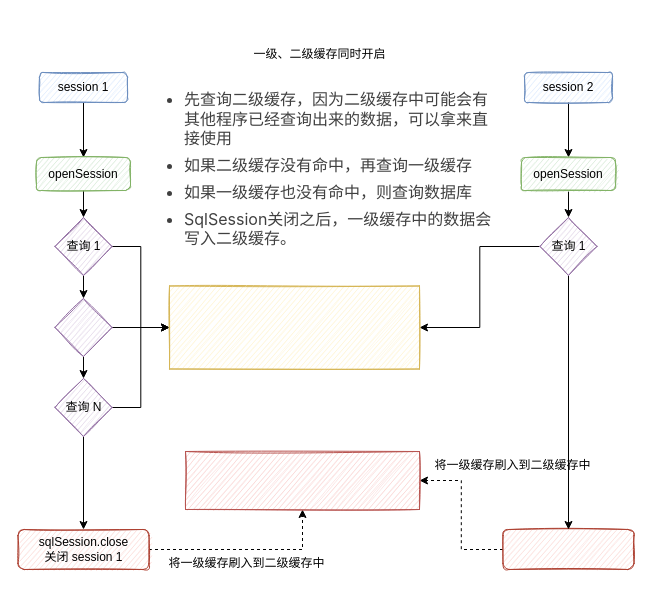
Image size: 651x594. Some labels were removed from this diagram. Each missing label, with the centre of its shape:
"MappedStatement 级别 【二级缓存】" belongs at [302,480].
"sqlSession.close 关闭 session 2" belongs at [568,549].
"优先从二级缓存获取，如果二级缓存没有 则从一级缓存中获取，如果一次缓存中也没有 查询数据库，并将数据放入一级缓存中" belongs at [294,327].
"查询 2" belongs at [83,327].
